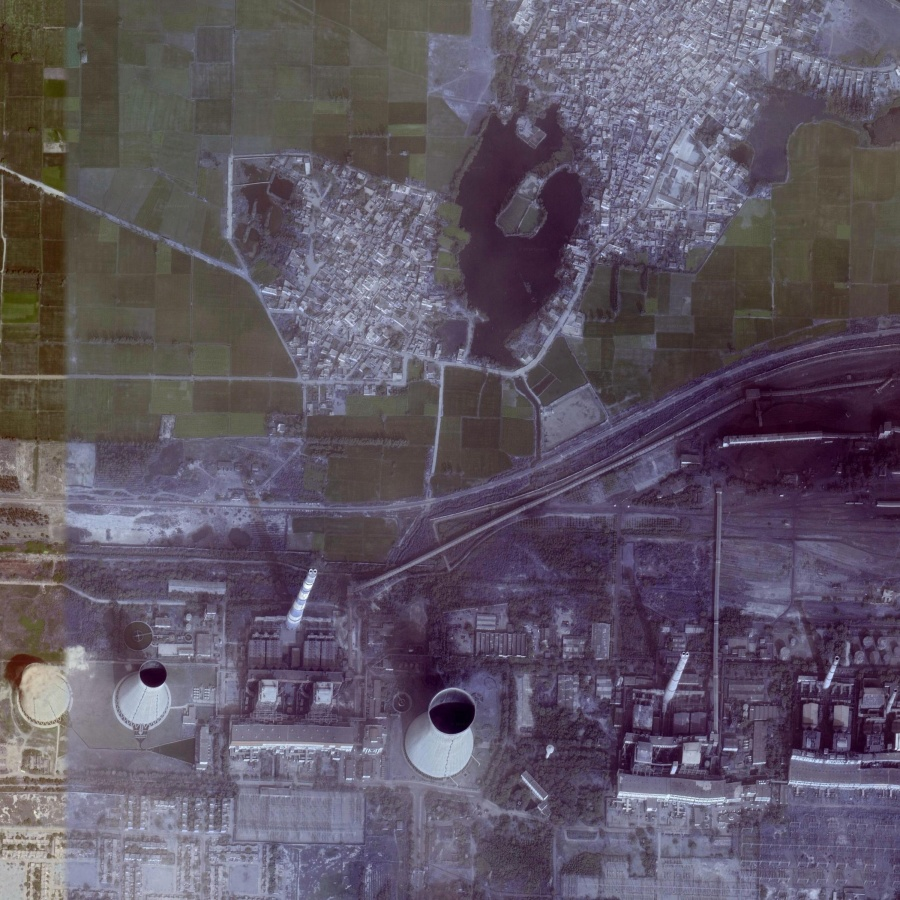PowerPlant: (8, 491, 484, 787)
